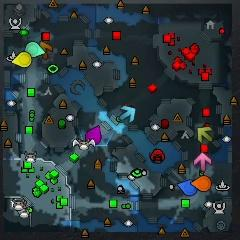p1: (177, 179, 197, 196)
p2: (25, 42, 45, 57)
p3: (85, 125, 102, 144)
p4: (11, 52, 32, 68)
p5: (191, 176, 212, 192)
x1: (194, 152, 211, 171)
x2: (197, 127, 212, 143)
x3: (120, 106, 136, 123)
x5: (39, 41, 52, 58)
